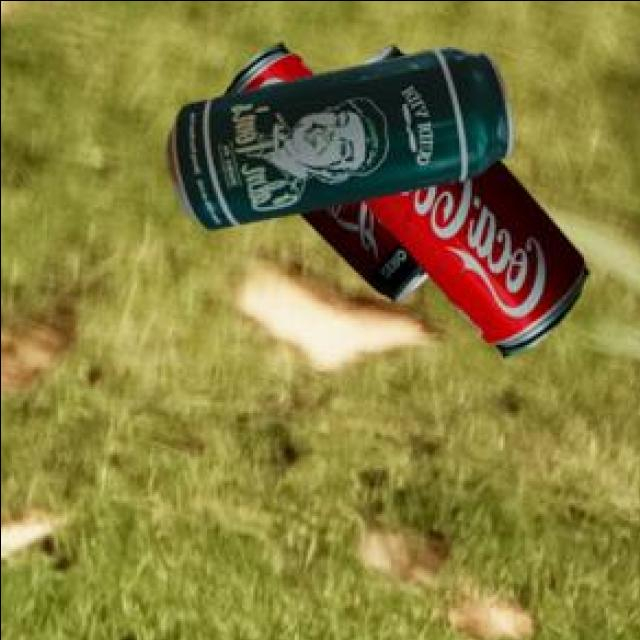logam: (361, 47, 584, 358), (163, 49, 507, 231), (220, 45, 424, 306)
